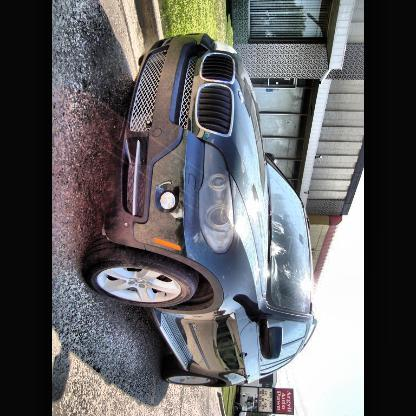BMW X5 SUV 2007: (84, 49, 365, 281)
